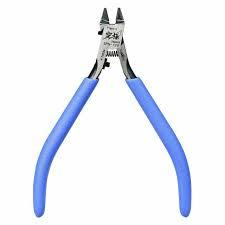pliers: (31, 5, 191, 217)
